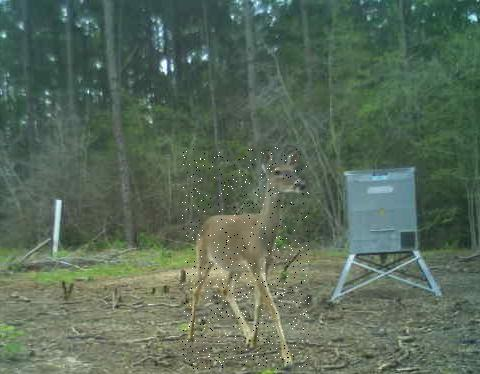Deer: (181, 148, 308, 370)
